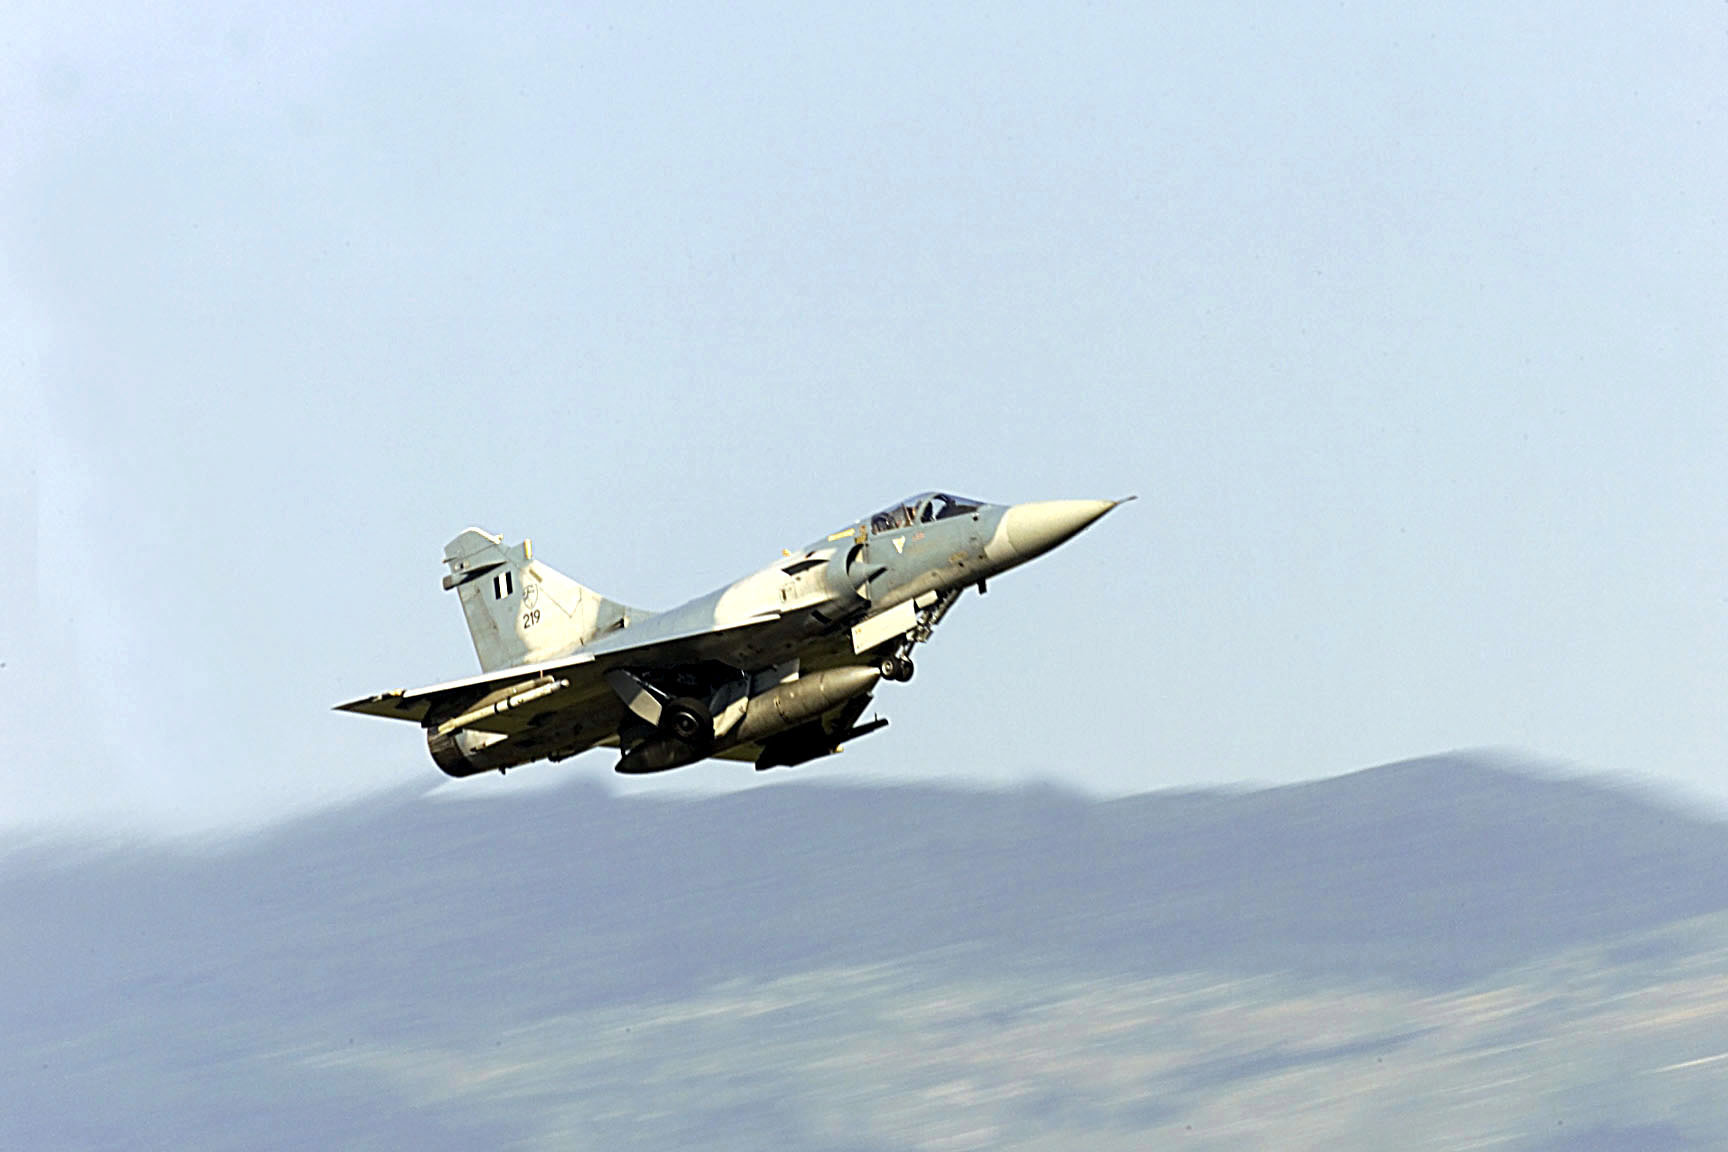Mirage2000: (329, 489, 1139, 779)
